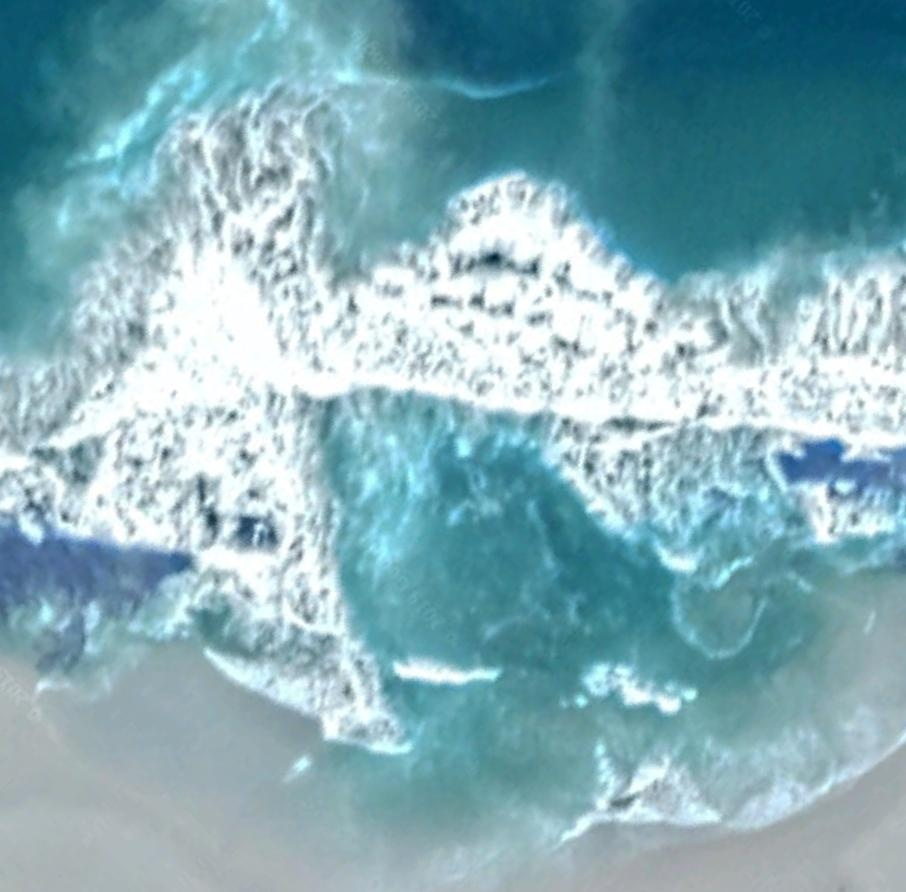rip_current: (232, 116, 709, 714)
